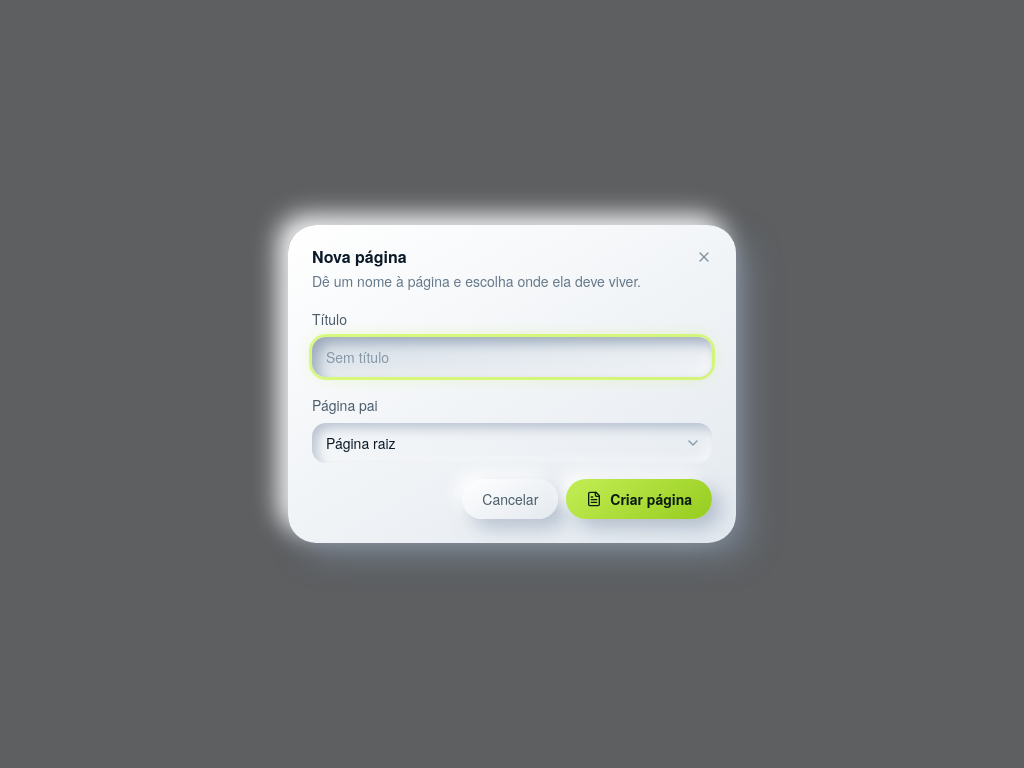
Scenario: CreateNoteDialog › shows a toast and keeps the dialog open when creation fails
Click the button "Criar página". click: click(639, 499)
box: x1=566 y1=479 x2=712 y2=519
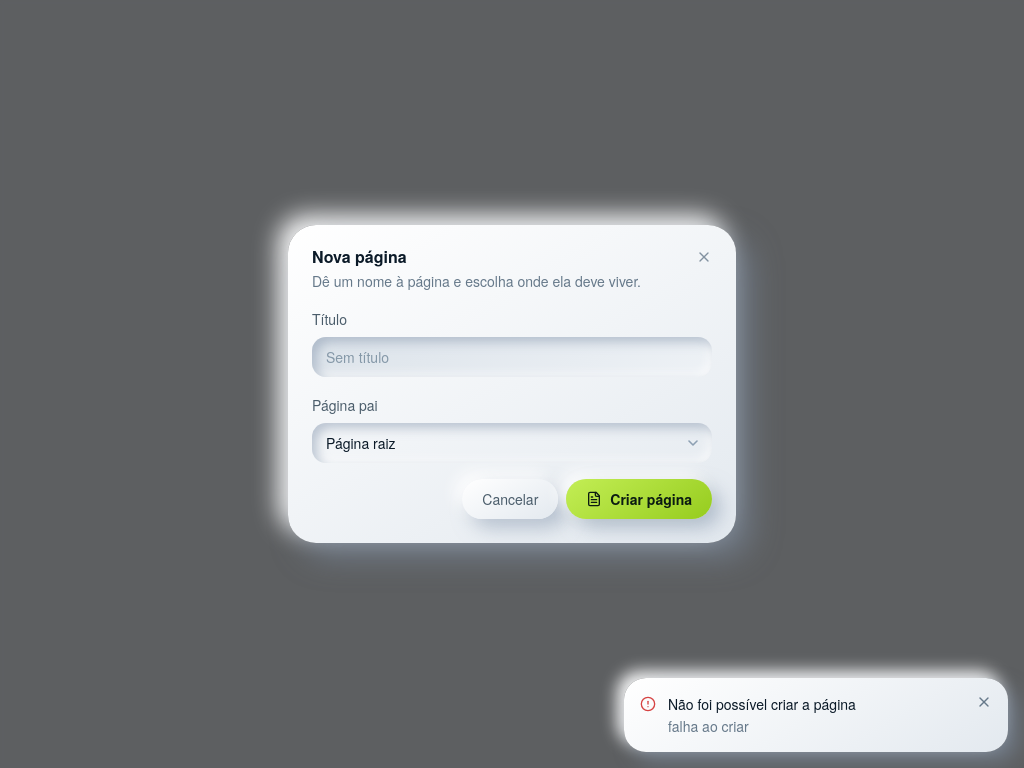
Expected: the text "Não foi possível criar a página" is shown, x1=668 y1=694 x2=856 y2=714
